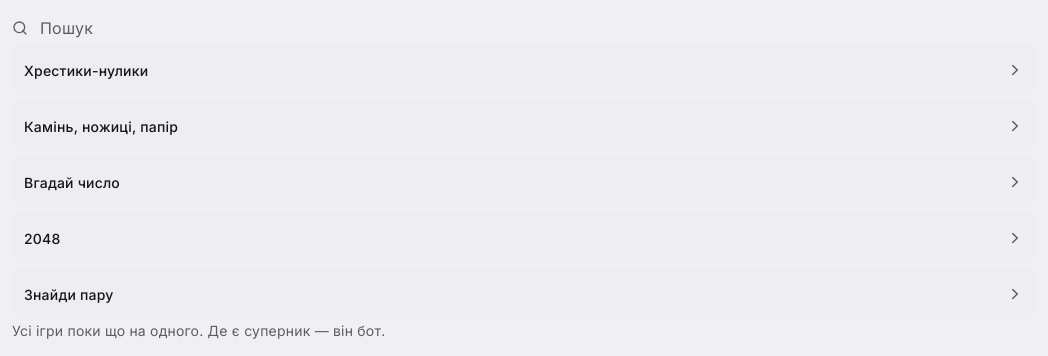
Test: список ігор › пошук звужує список, а звужений у нуль каже про це
In the search field named "Пошук за назвою гри": [72, 28] box [32,12,112,44], type "Хрестики-нулики"
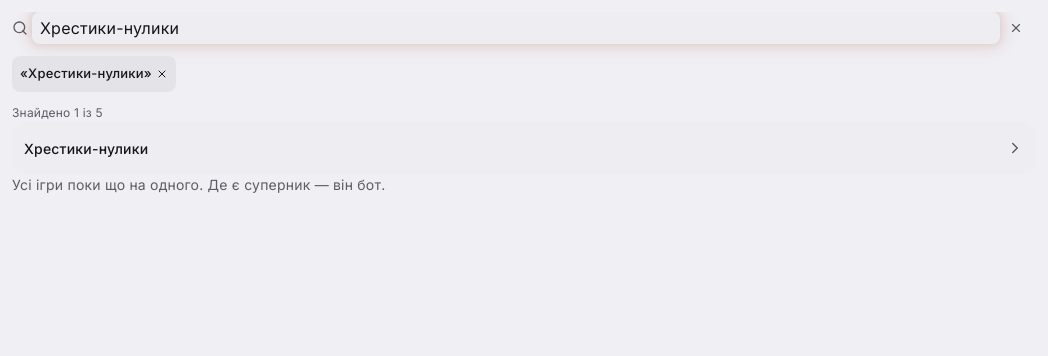
Expected: the button "Хрестики-нулики" is shown, [12,122,1036,174]
Expected: the button "Камінь, ножиці, папір" is gone
In the search field named "Пошук за назвою гри": [516, 28] box [32,12,1000,44], type " такого нема"
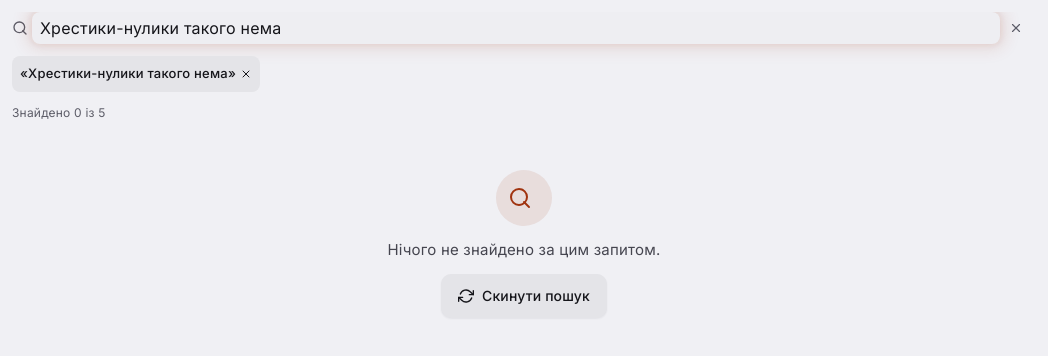
Expected: the text "Нічого не знайдено за цим запитом." is shown, [388,238,660,262]
